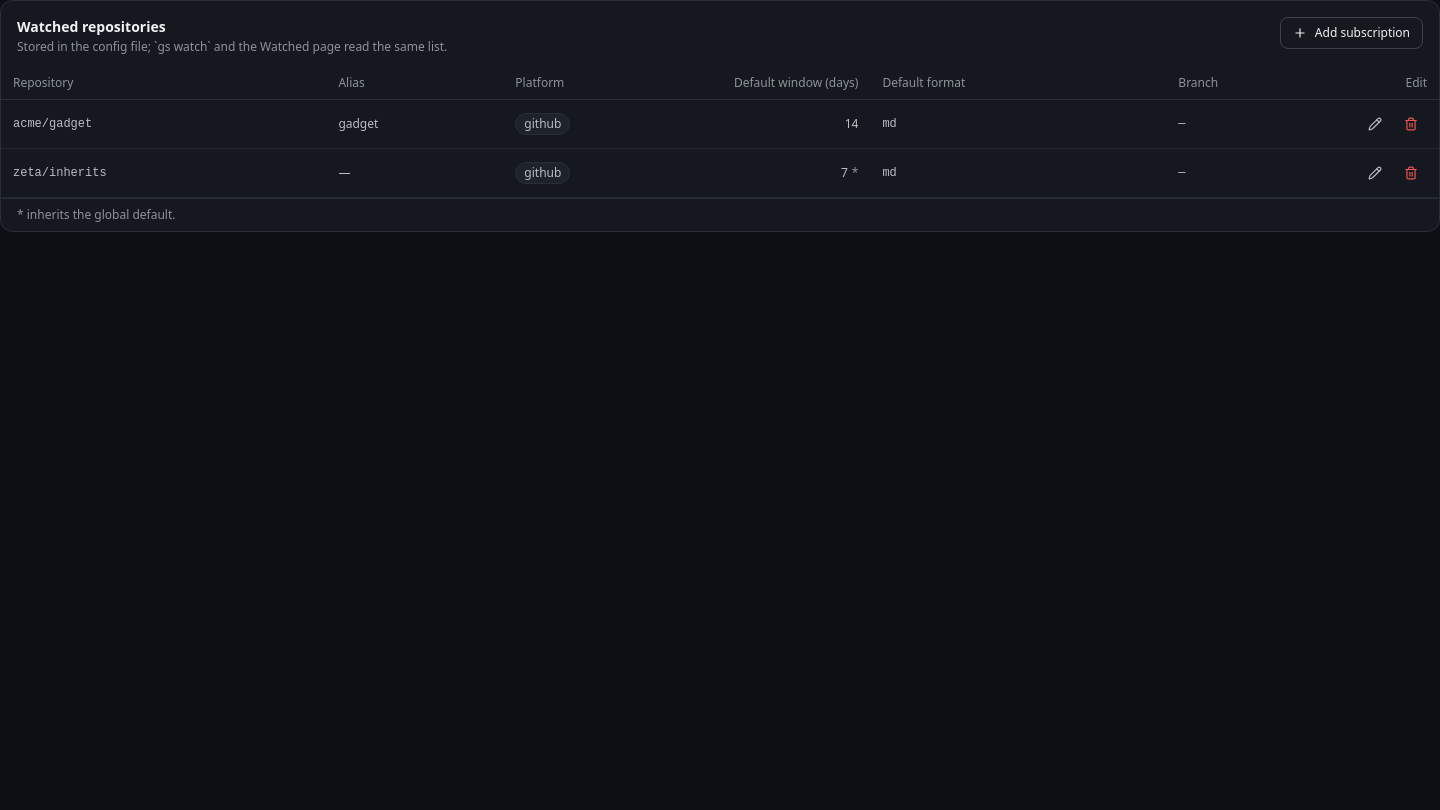
Test: SubscriptionSettings › reports a duplicate before sending anything
The width and height of the screenshot is (1440, 810).
Check: the text "acme/gadget" is shown, box [1,100,326,148]
Click the button "Add subscription" at (1351, 33), box [1280,17,1423,49]
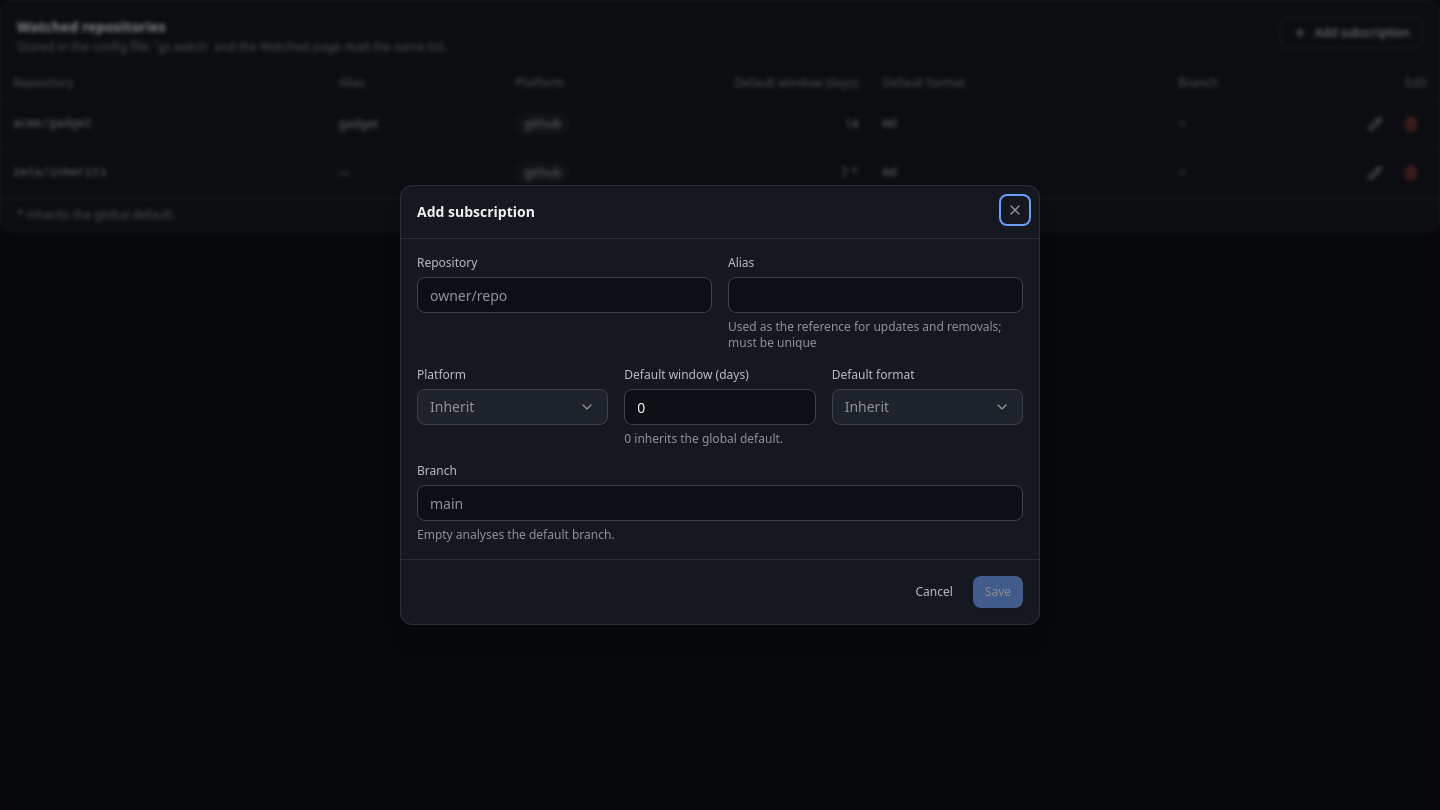
Type "acme/gadget" into the field labelled "Repository" at (564, 295), box [417,277,712,313]
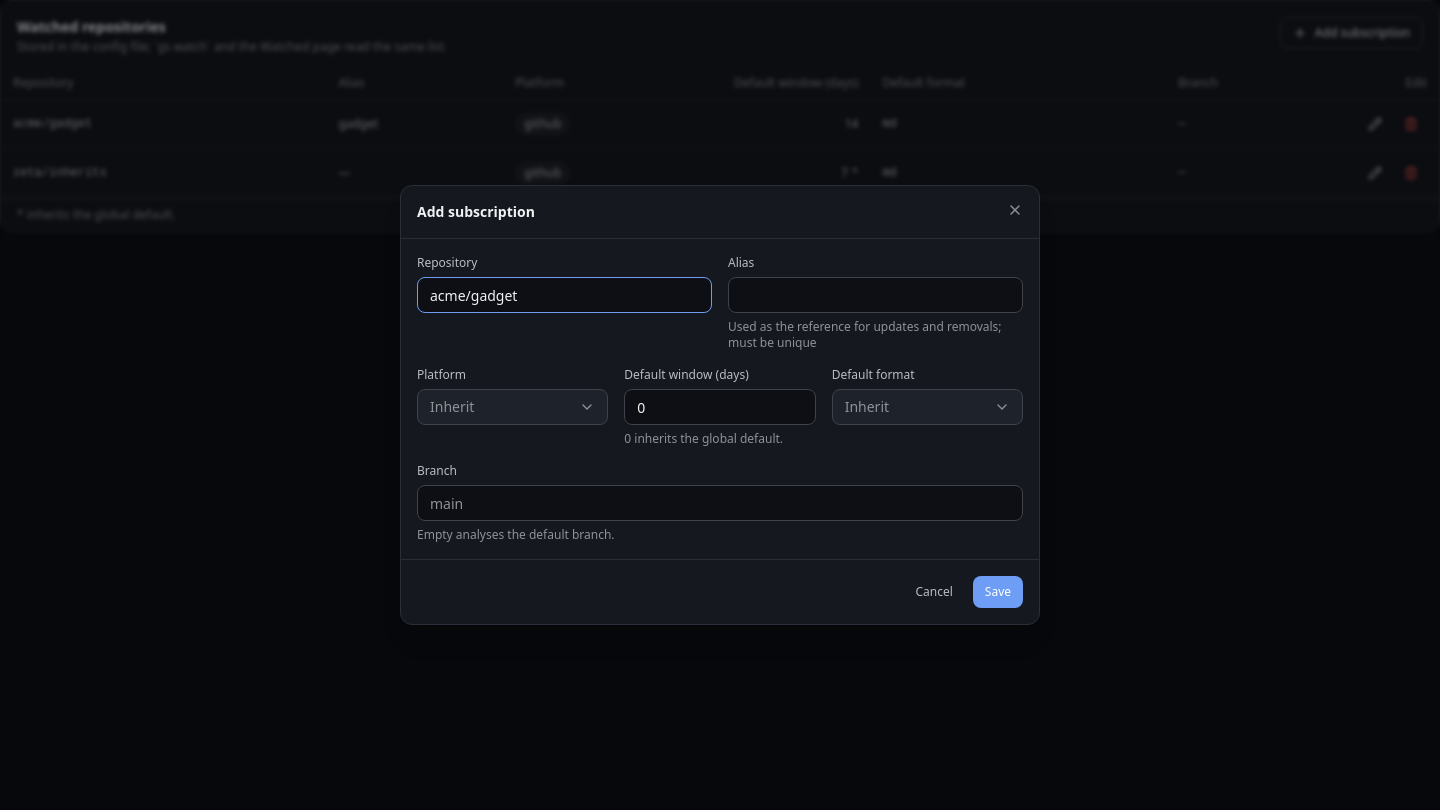
Click the button "Save" at (998, 592), box [973,576,1023,608]
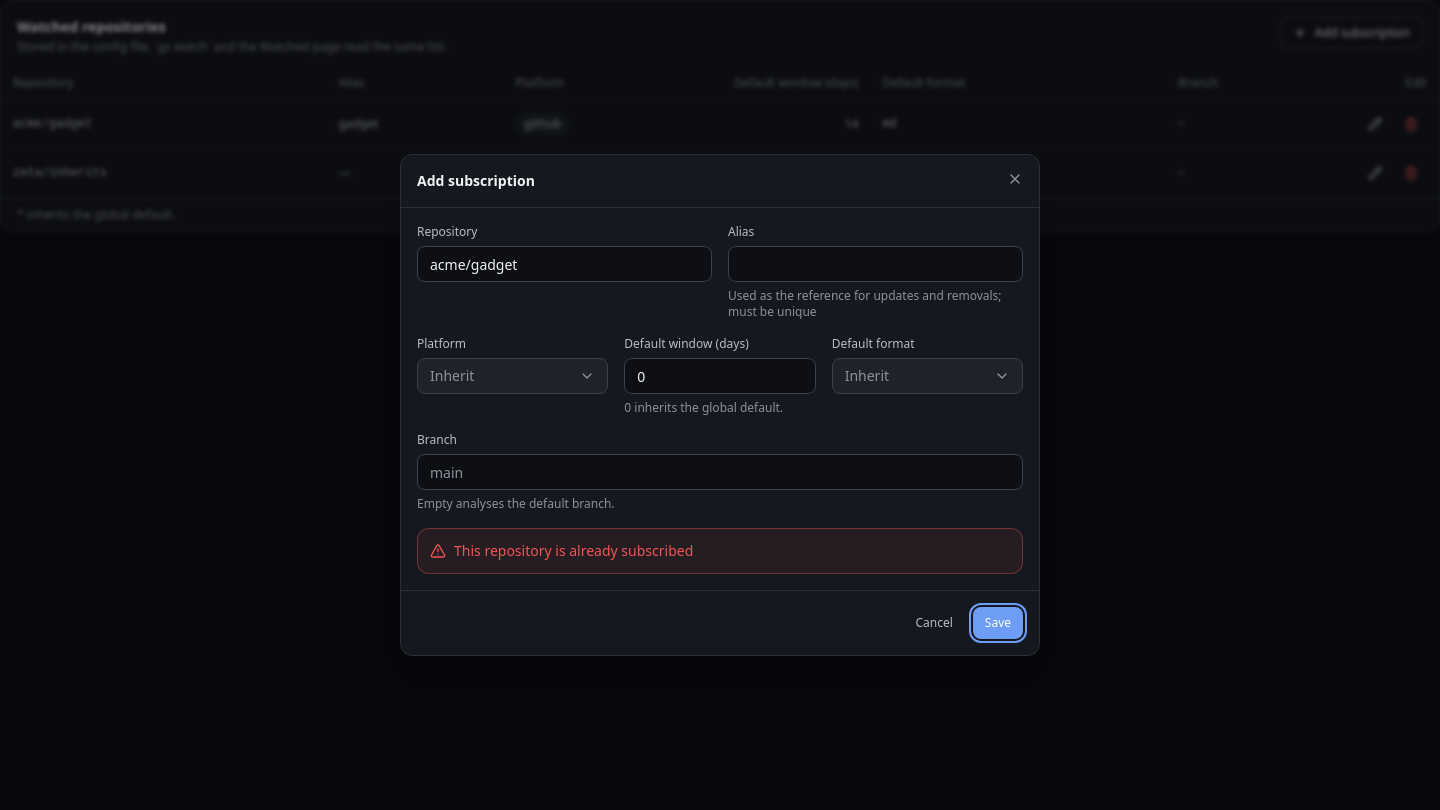
Check: the text "This repository is already subscribed" is shown, box [454,541,693,560]
